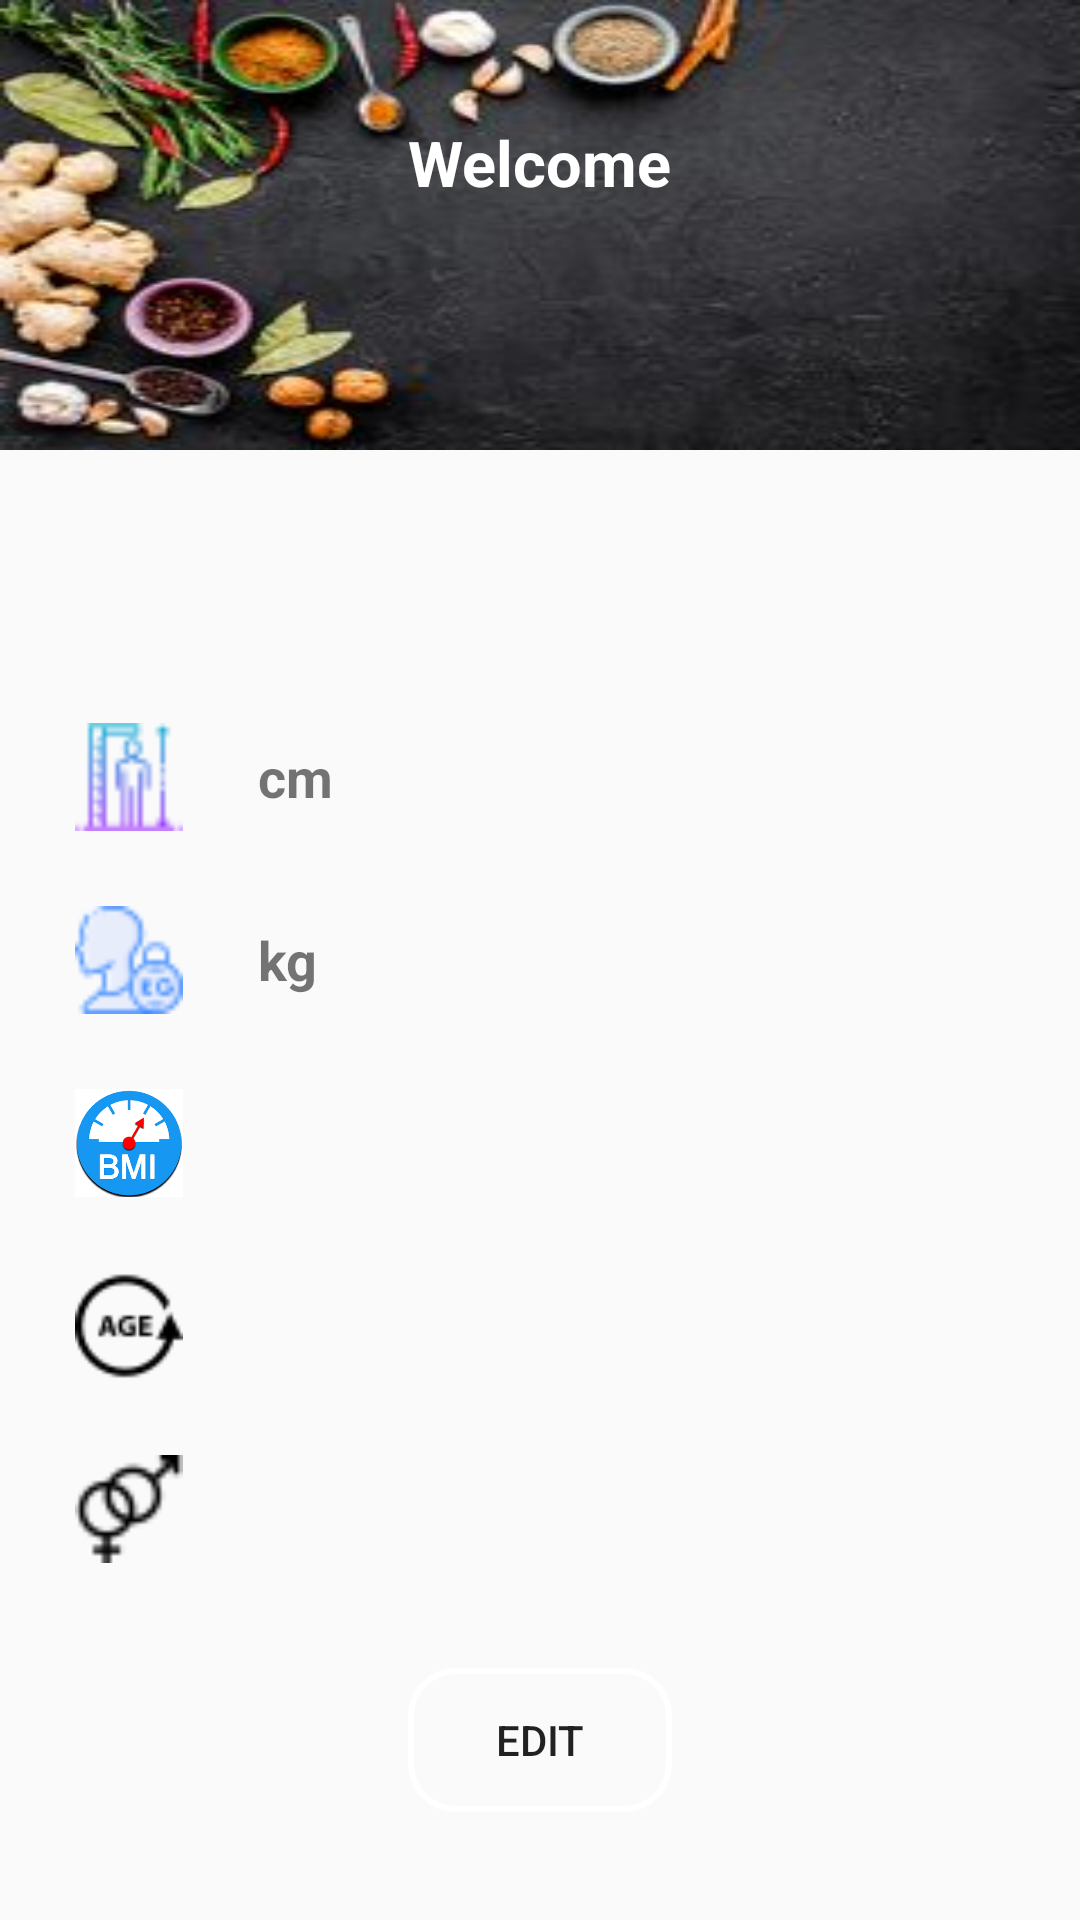

Icon click points for this 1080px x 1920px phone screenshot, format point (x, y):
gender: point (129, 1509)
height: point (129, 777)
weight: point (129, 960)
